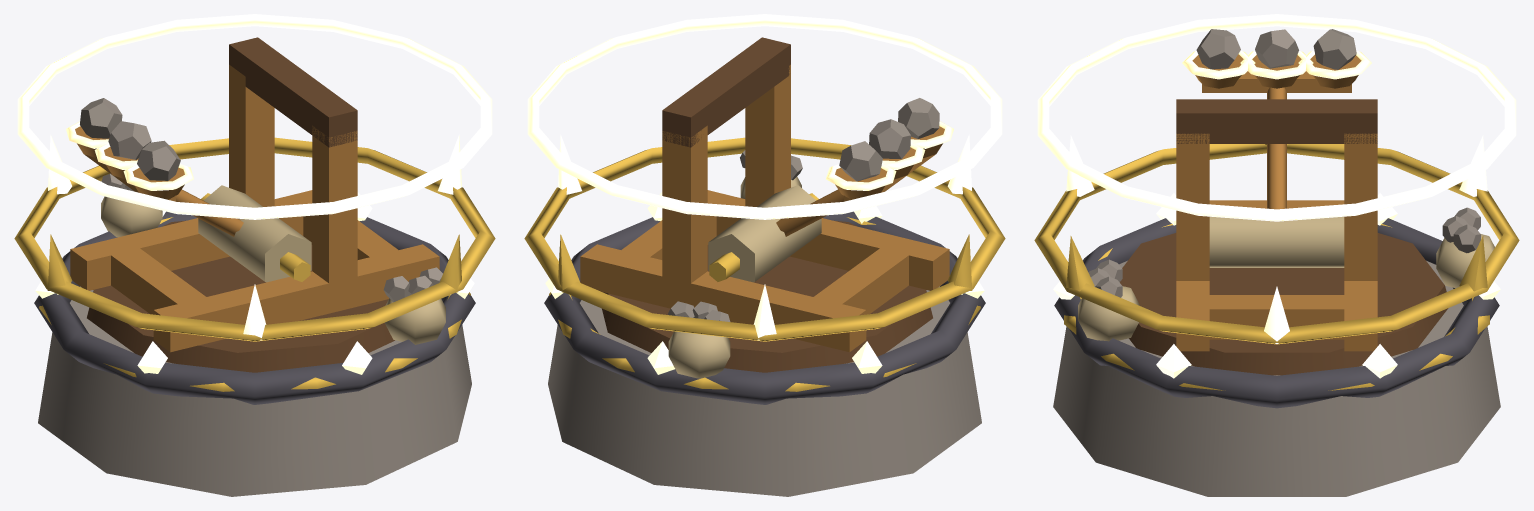
The model's file is tower_catapult_rockStorm_ultimate.glb.
3 renders of one model, left to right at view 1: azimuth 30°, elevation 25°; view 2: azimuth 150°, elevation 25°; view 3: azimuth 270°, elevation 25°, orthographic.
Parts seen in each view (by area): view 1: base, base_rim, ult_halo, ult_crown_band, turntable, rail_l, stop_bar, upright_l, rail_r, upright_r, torsion_rope, cross_w (+18 smaller); view 2: base, base_rim, ult_halo, ult_crown_band, rail_r, turntable, stop_bar, upright_r, rail_l, upright_l, torsion_rope, cross_w (+17 smaller); view 3: base, turntable, base_rim, ult_halo, ult_crown_band, stop_bar, torsion_rope, cross_e, upright_r, upright_l, net_sack_0, arm_beam (+23 smaller).
Boxes of the visible parts, bbox=[...] form: base: bbox=[38, 286, 471, 496]; base_rim: bbox=[34, 211, 475, 404]; ult_halo: bbox=[17, 14, 492, 219]; ult_crown_band: bbox=[14, 137, 495, 341]; turntable: bbox=[87, 220, 394, 372]; rail_l: bbox=[153, 244, 439, 352]; stop_bar: bbox=[229, 37, 357, 147]; upright_l: bbox=[312, 125, 357, 285]; rail_r: bbox=[70, 190, 312, 290]; upright_r: bbox=[229, 64, 274, 206]; torsion_rope: bbox=[198, 185, 311, 282]; cross_w: bbox=[111, 248, 223, 345]; base: bbox=[548, 286, 981, 496]; base_rim: bbox=[544, 211, 985, 404]; ult_halo: bbox=[527, 14, 1002, 219]; ult_crown_band: bbox=[524, 137, 1005, 341]; rail_r: bbox=[580, 244, 866, 352]; turntable: bbox=[602, 220, 932, 372]; stop_bar: bbox=[662, 37, 790, 147]; upright_r: bbox=[662, 125, 707, 285]; rail_l: bbox=[707, 190, 949, 290]; upright_l: bbox=[745, 64, 790, 206]; torsion_rope: bbox=[708, 185, 821, 282]; cross_w: bbox=[797, 248, 908, 346]; base: bbox=[1053, 260, 1500, 496]; turntable: bbox=[1120, 233, 1448, 375]; base_rim: bbox=[1054, 218, 1499, 408]; ult_halo: bbox=[1037, 14, 1516, 221]; ult_crown_band: bbox=[1034, 144, 1519, 344]; stop_bar: bbox=[1176, 99, 1377, 143]; torsion_rope: bbox=[1209, 216, 1344, 267]; cross_e: bbox=[1176, 295, 1377, 339]; upright_r: bbox=[1344, 133, 1377, 280]; upright_l: bbox=[1176, 133, 1209, 280]; net_sack_0: bbox=[1078, 286, 1139, 341]; arm_beam: bbox=[1267, 87, 1286, 209].
Size of the model in its own units: 0.434 by 0.315 by 0.4334.
